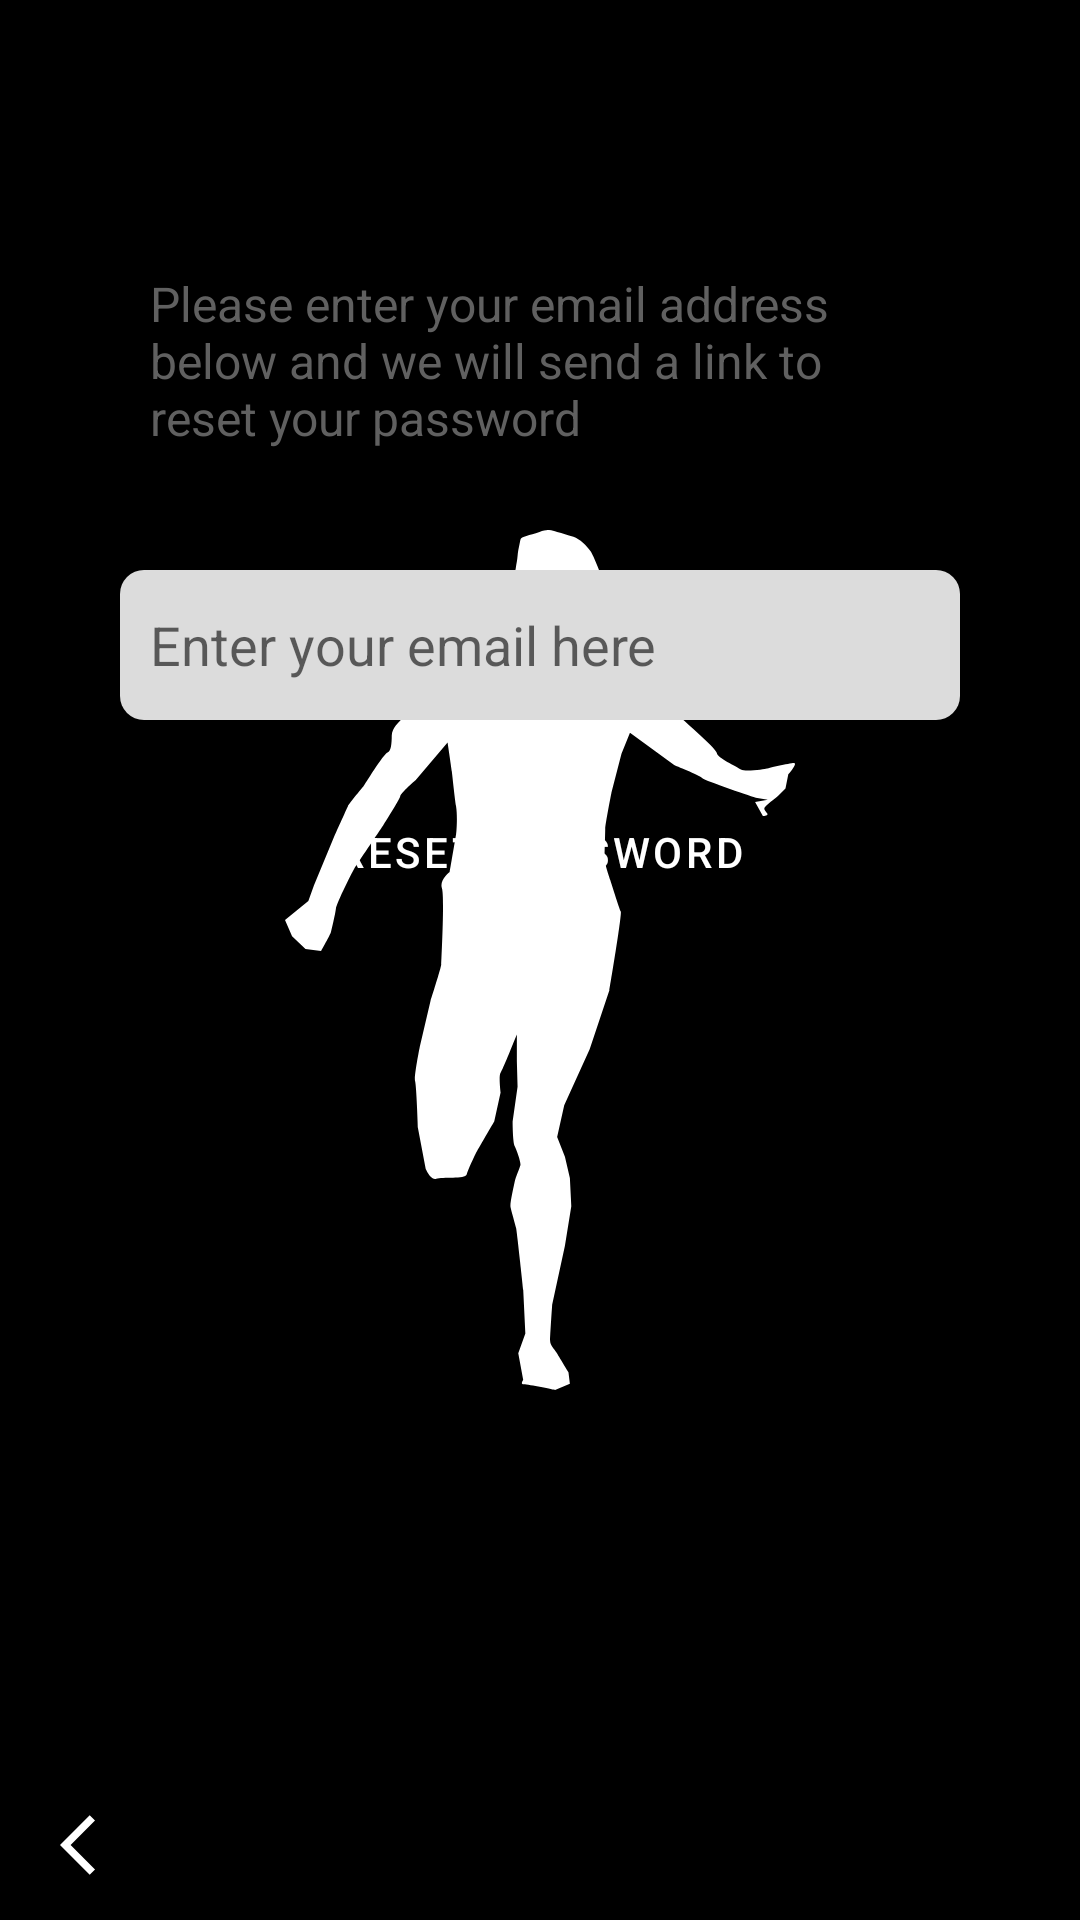

Where to tap for icons on this 1080×1920 app screen, as [x,y]:
arrow back: [77,1845]
